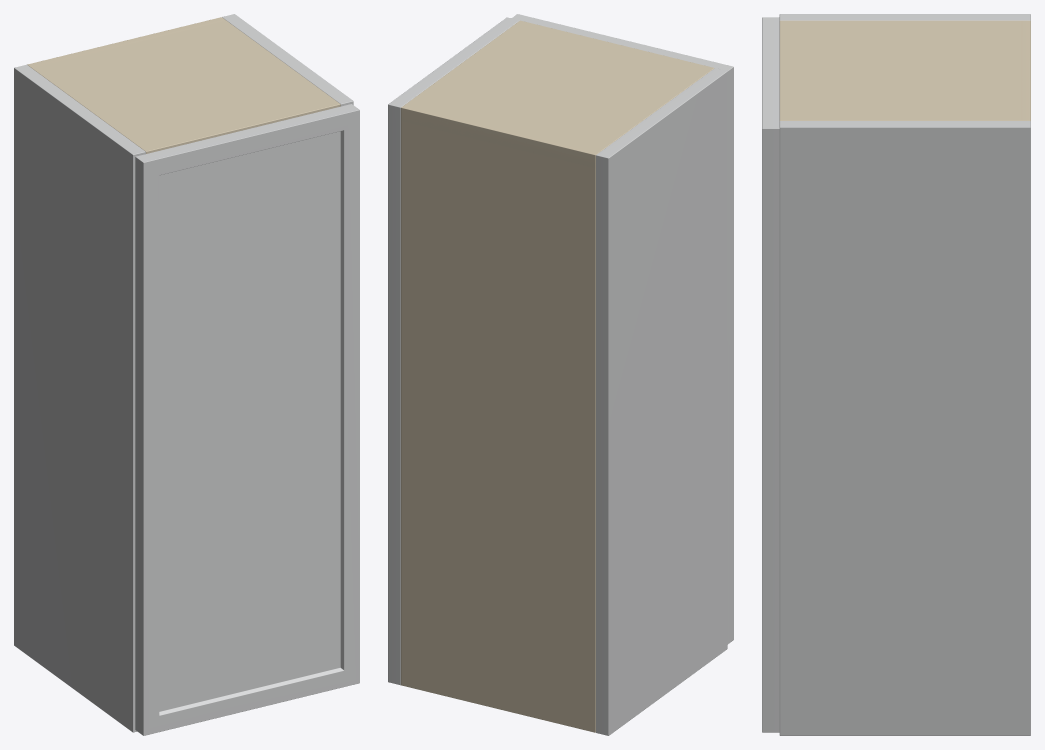
File: oppein-ply-ssw-w1230.glb
3 renders of one model, left to right at view 1: azimuth 30°, elevation 25°; view 2: azimuth 150°, elevation 25°; view 3: azimuth 270°, elevation 25°, orthographic. The views are drawn at different scales.
Visible parts, largest first — view 1: Door, Cabinet side, Cabinet top, Cabinet side.001, Cabinet back; view 2: Cabinet back, Cabinet side, Cabinet top, Cabinet side.001, Door; view 3: Cabinet side.001, Cabinet top, Door, Cabinet side, Cabinet back.
Boxes of the visible parts, x1,y1,x2,y2 form: Door: [135, 104, 359, 735]; Cabinet side: [14, 64, 145, 732]; Cabinet top: [27, 17, 340, 153]; Cabinet side.001: [222, 14, 353, 106]; Cabinet back: [28, 17, 225, 67]; Cabinet back: [401, 104, 599, 732]; Cabinet side: [596, 68, 727, 735]; Cabinet top: [401, 20, 714, 167]; Cabinet side.001: [388, 17, 519, 685]; Door: [512, 14, 733, 644]; Cabinet side.001: [779, 121, 1030, 735]; Cabinet top: [779, 20, 1030, 120]; Door: [762, 17, 779, 732]; Cabinet side: [779, 14, 1030, 20]; Cabinet back: [1020, 20, 1030, 120].
Size of the model in its own units: 0.3048 by 0.762 by 0.3048.
